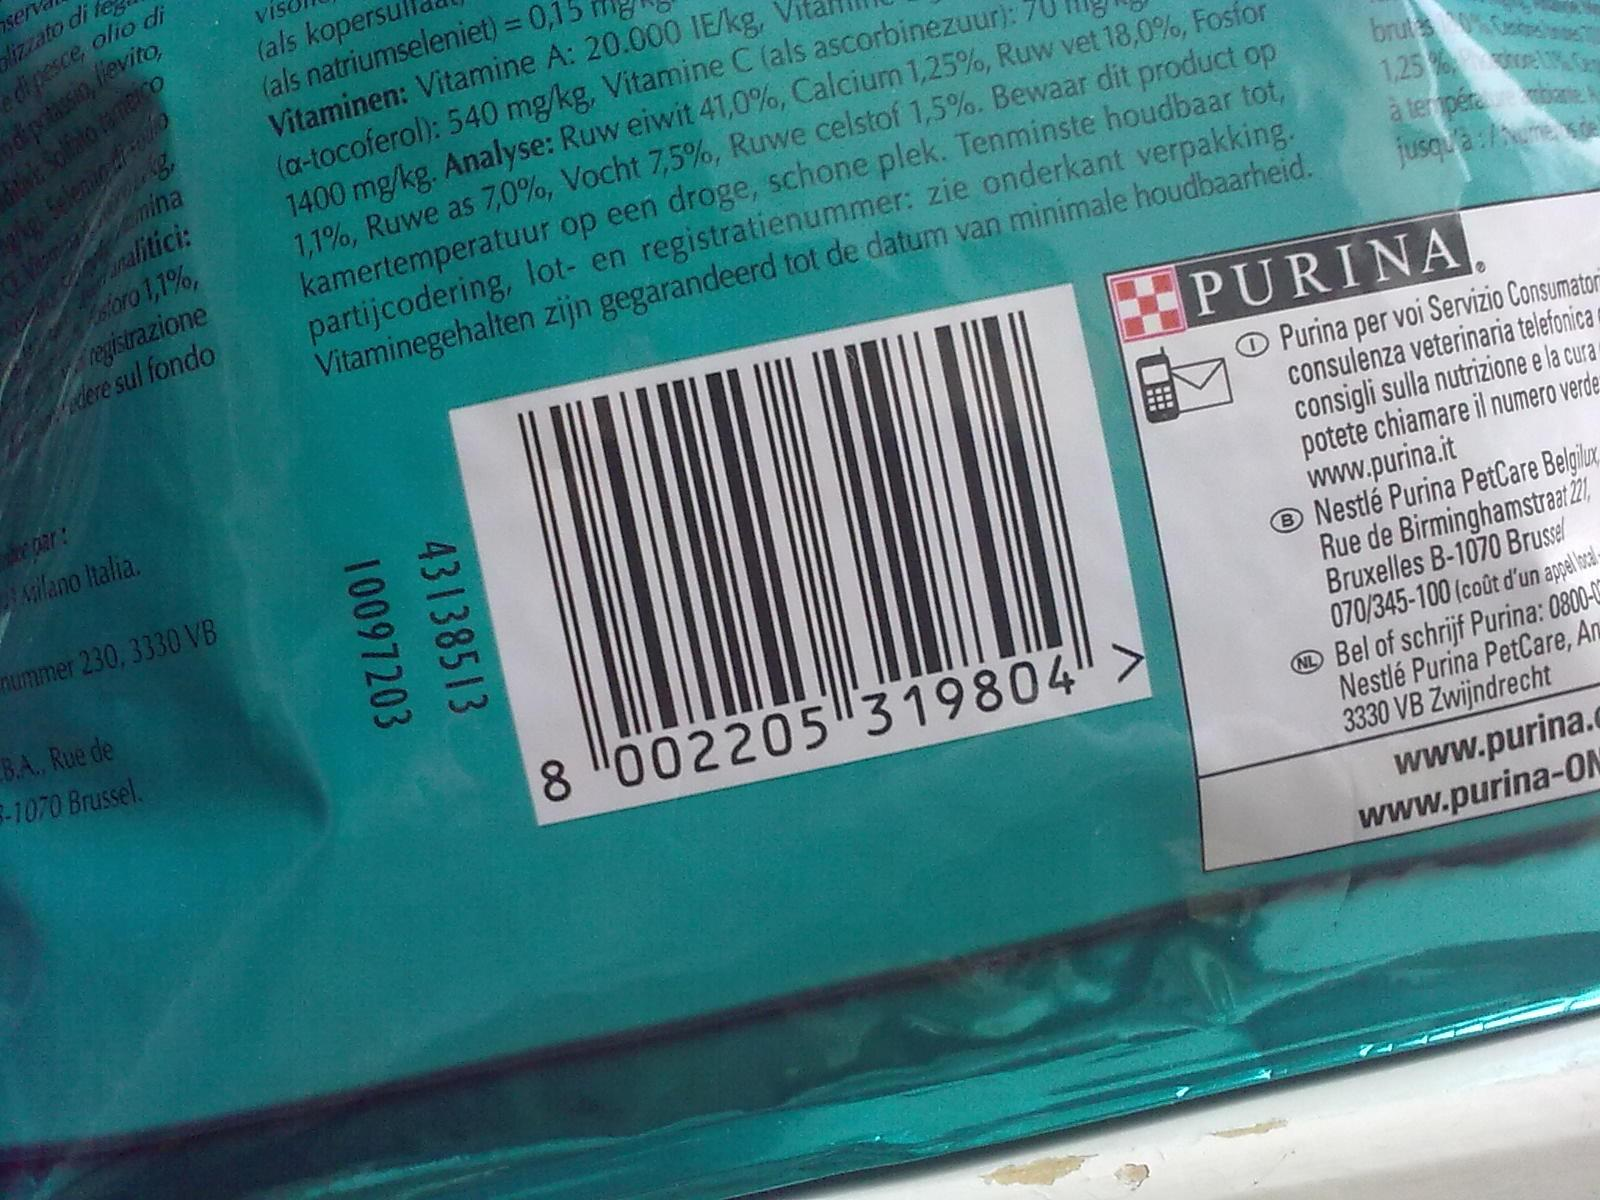Barcode: (505, 294, 1104, 834)
